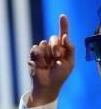up: (27, 13, 76, 92)
